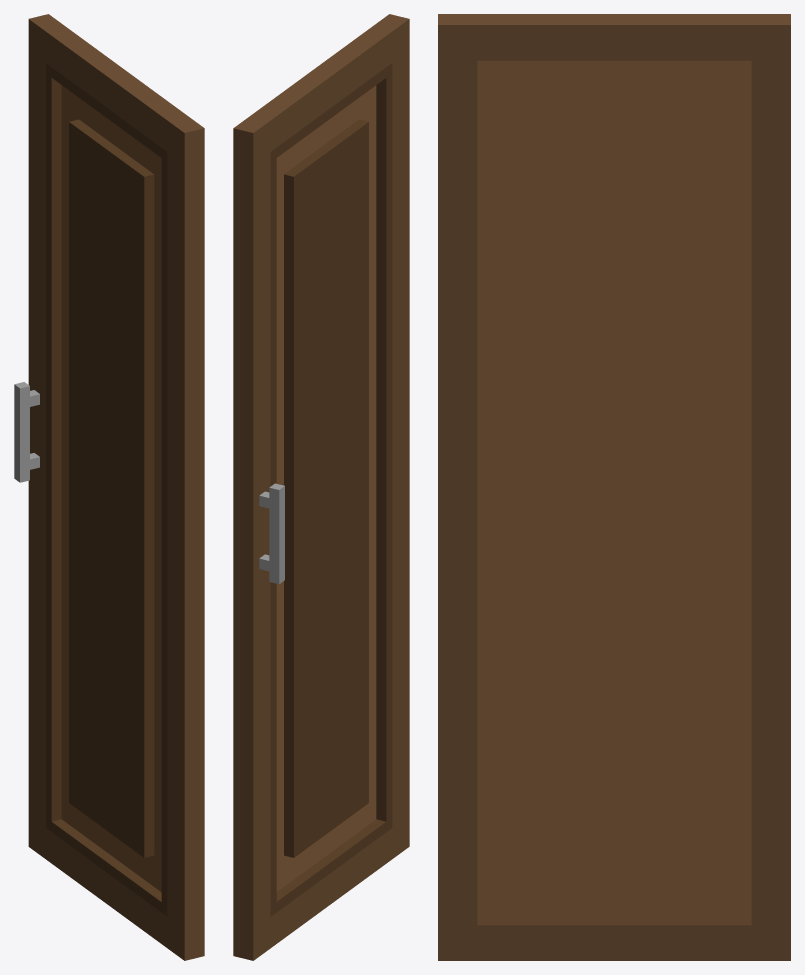
File: Closet-0.obj
The picture shows the model from 3 angles, left to right: view 1: azimuth 30°, elevation 25°; view 2: azimuth 150°, elevation 25°; view 3: azimuth 270°, elevation 25°; orthographic projection. The views are drawn at different scales.
Size of the model in its own units: 0.4 by 7.9 by 2.7.
Materials: 1 (1 with a texture image).
